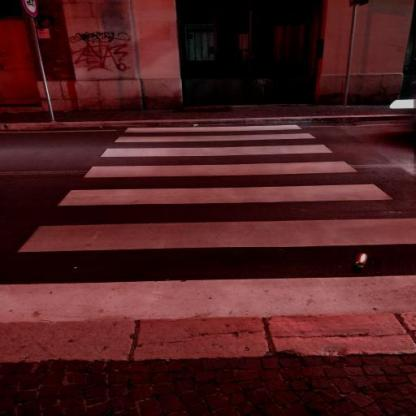crosswalk: (50, 158, 398, 214), (110, 122, 317, 144)
